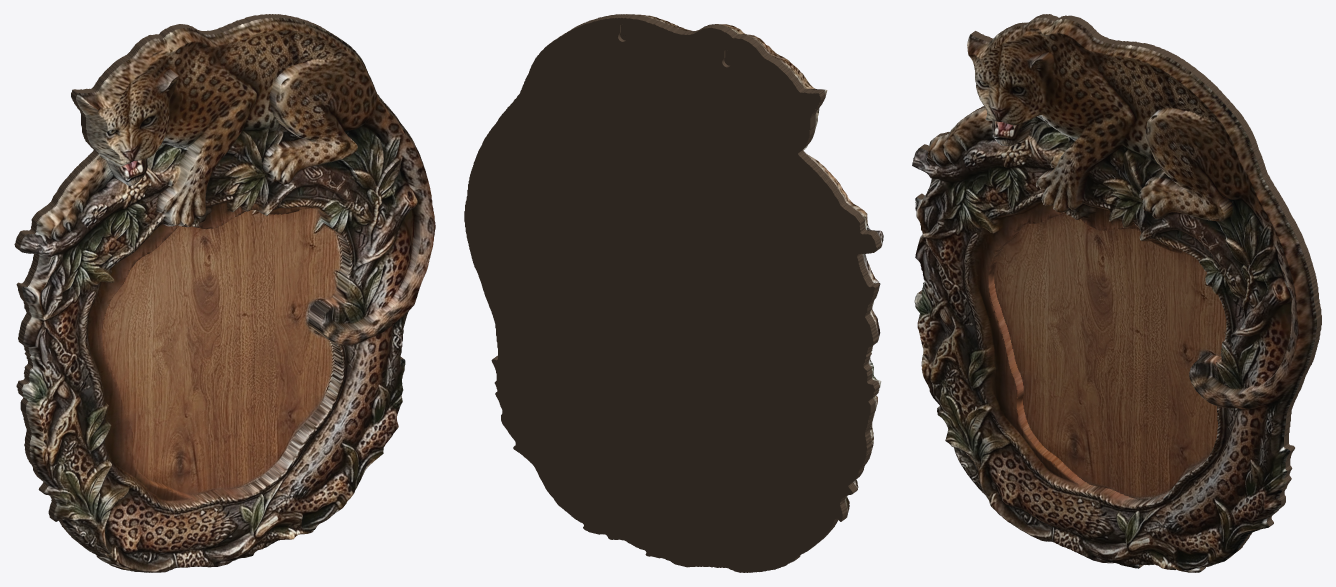
The model's file is H70-web.glb.
3 views of the same model, side by side, from view 1: azimuth 30°, elevation 25°; view 2: azimuth 150°, elevation 25°; view 3: azimuth 330°, elevation 25° (orthographic). The views are drawn at different scales.
Visible parts, largest first — view 1: leopar; view 2: leopar; view 3: leopar.
Part boxes in pixels (box(x1,y1,x2,y2)): leopar: box(14, 14, 435, 572); leopar: box(464, 14, 883, 572); leopar: box(912, 14, 1321, 572).
Bounding box in the file's own units: 0.4751 × 0.6 × 0.0375.
Materials: 2 (1 with a texture image).
